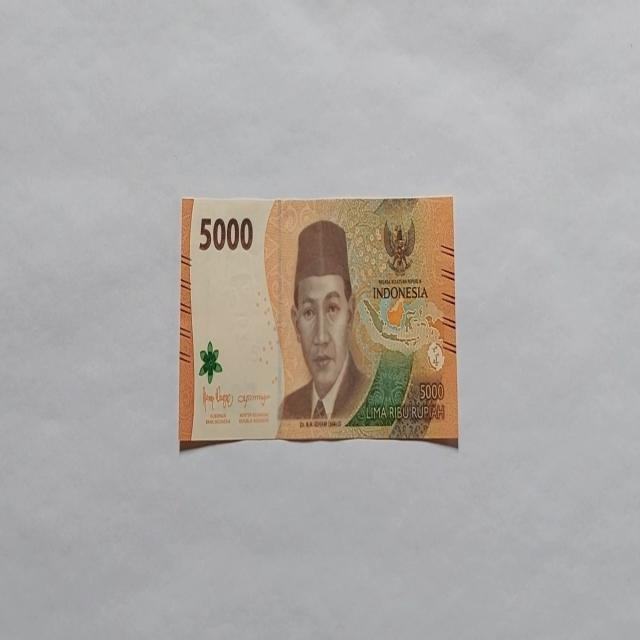lima ribu rupiah: (178, 195, 458, 449), (278, 218, 373, 424)
